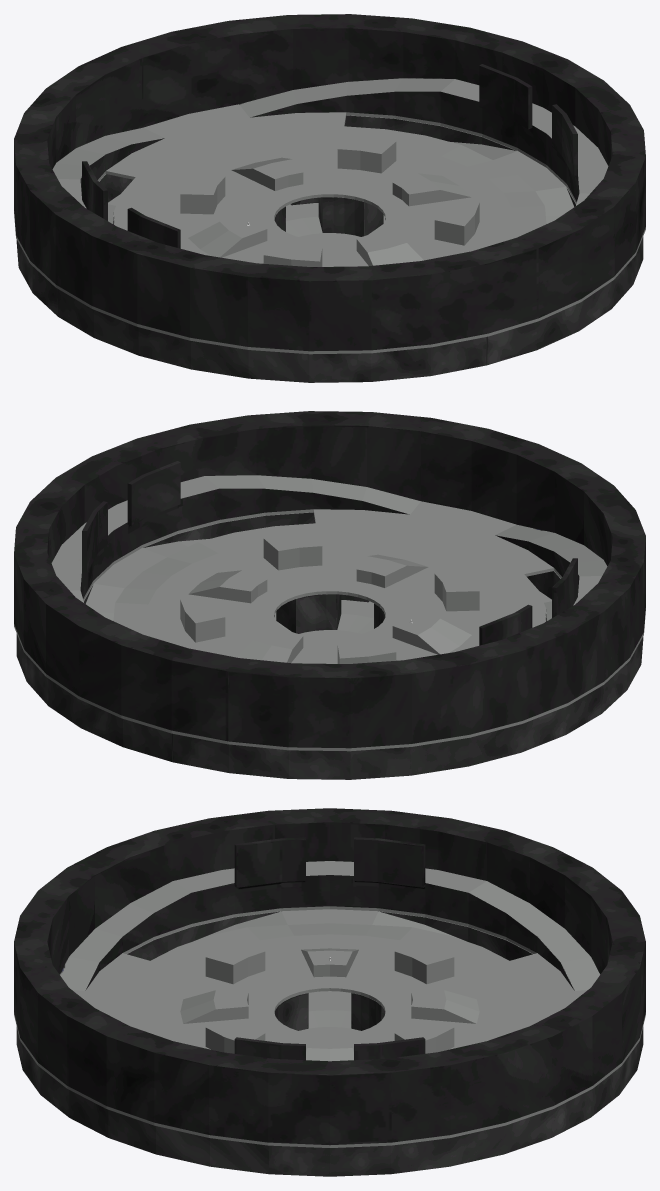
File: xkillArenaMesh.obj
3 views of the same model, one above another, from view 1: azimuth 30°, elevation 25°; view 2: azimuth 150°, elevation 25°; view 3: azimuth 270°, elevation 25° (orthographic).
Parts seen in each view (by area): view 1: Cylinder.002_Cylinder.001, Cylinder.001_Cylinder.002, Cylinder; view 2: Cylinder.002_Cylinder.001, Cylinder.001_Cylinder.002, Cylinder; view 3: Cylinder.002_Cylinder.001, Cylinder.001_Cylinder.002, Cylinder.
Boxes of the visible parts, left/top/right/bottom form: Cylinder.002_Cylinder.001: left=14, top=14, right=645, bottom=351; Cylinder.001_Cylinder.002: left=14, top=104, right=645, bottom=354; Cylinder: left=16, top=115, right=643, bottom=382; Cylinder.002_Cylinder.001: left=14, top=411, right=645, bottom=748; Cylinder.001_Cylinder.002: left=14, top=501, right=645, bottom=751; Cylinder: left=16, top=512, right=643, bottom=779; Cylinder.002_Cylinder.001: left=14, top=808, right=645, bottom=1145; Cylinder.001_Cylinder.002: left=14, top=906, right=645, bottom=1147; Cylinder: left=16, top=909, right=643, bottom=1176.
Size of the model in its own units: 38.53 by 7.3 by 38.53.
